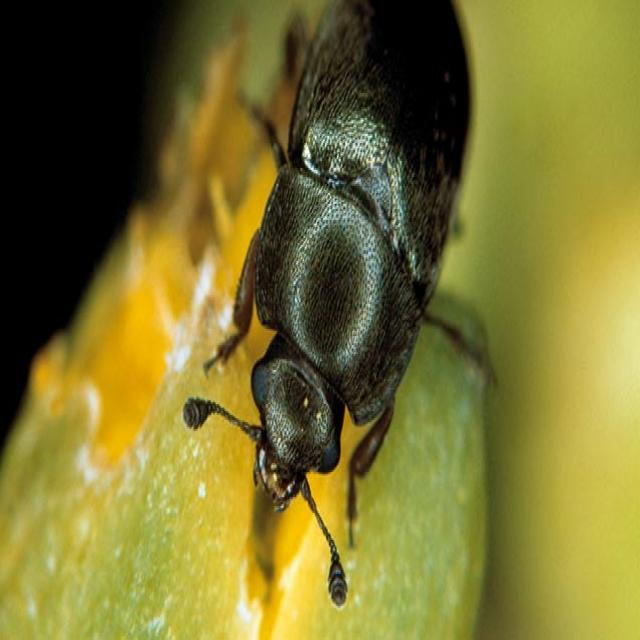pollen_beetle: (181, 0, 475, 611)
